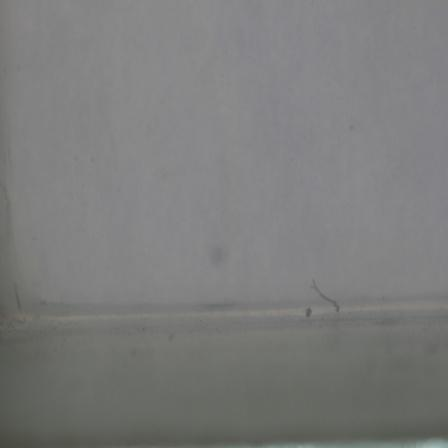Jentik-Nyamuk: (308, 269, 343, 317)
